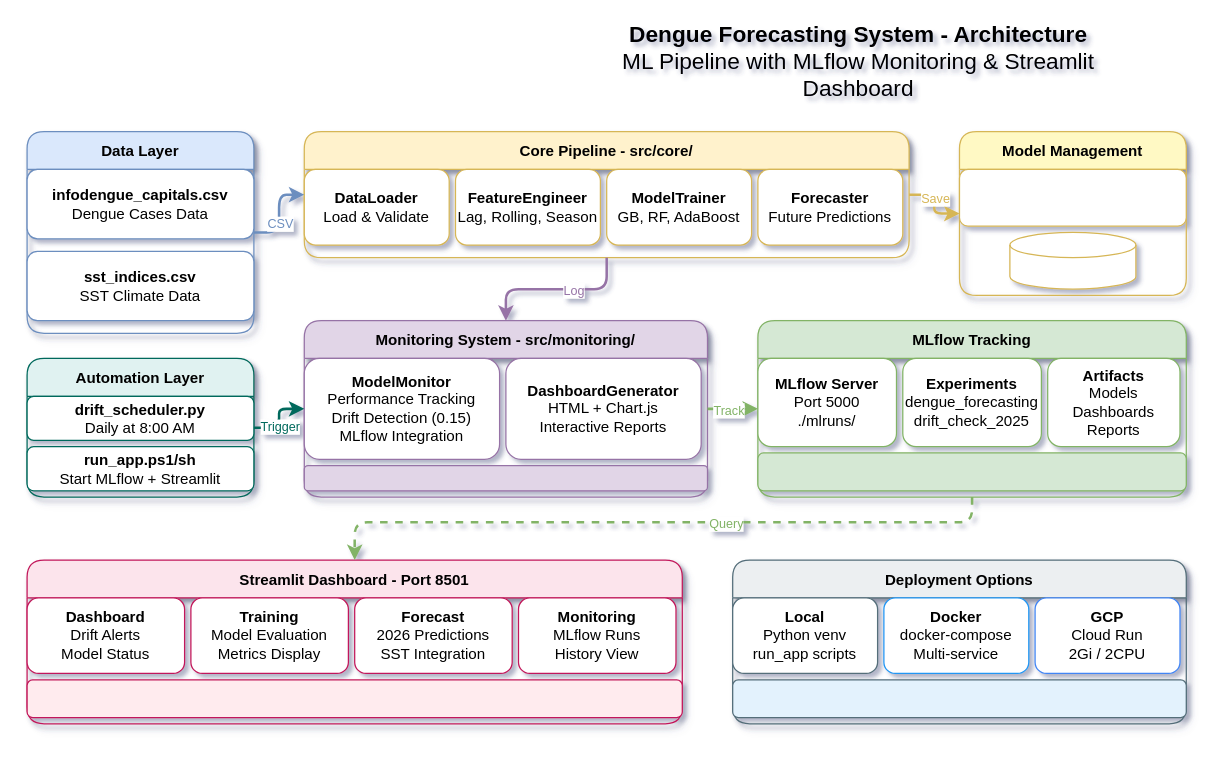
This 1223x762 diagram has some shape labels left out. Here are the shapes that lost their labels. From the top down, the centre of each, then its label:
At [1072,197]: "ModelManager Save/Load, Versioning".
At [1072,260]: "models/ baseline_model.pkl".
At [505,477]: "drift_threshold: 0.15 | min R2: 0.30".
At [971,471]: "Metrics: R2, MAE, RMSE, drift_detected | Tags: DRIFT_STATUS, severity".
At [354,698]: "Real-time Drift Alerts: Red (CRITICAL) | Yellow (WARNING) | Green (OK)".
At [958,698]: "scikit-learn | MLflow 2.0+ | Streamlit 1.28+ | Chart.js | Plotly".
